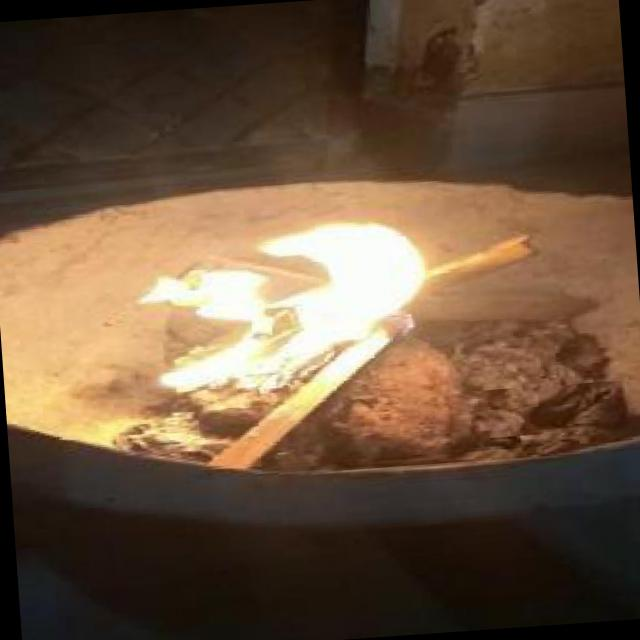fire: (126, 214, 453, 408)
